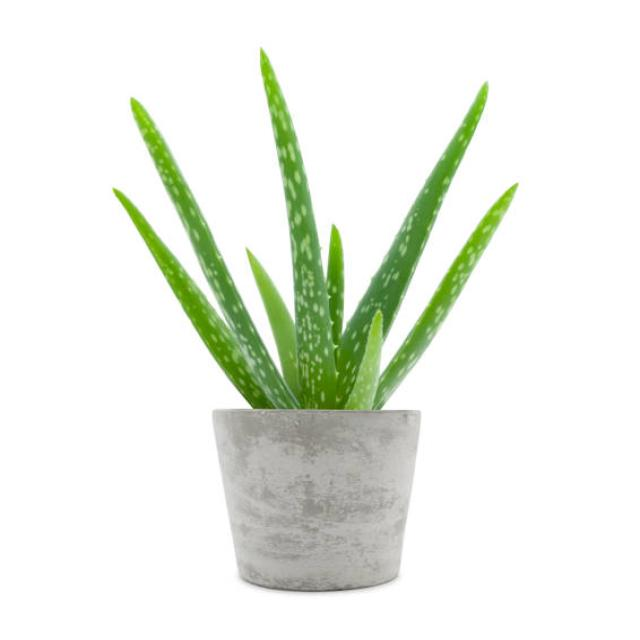AloeVera: (91, 89, 552, 586)
